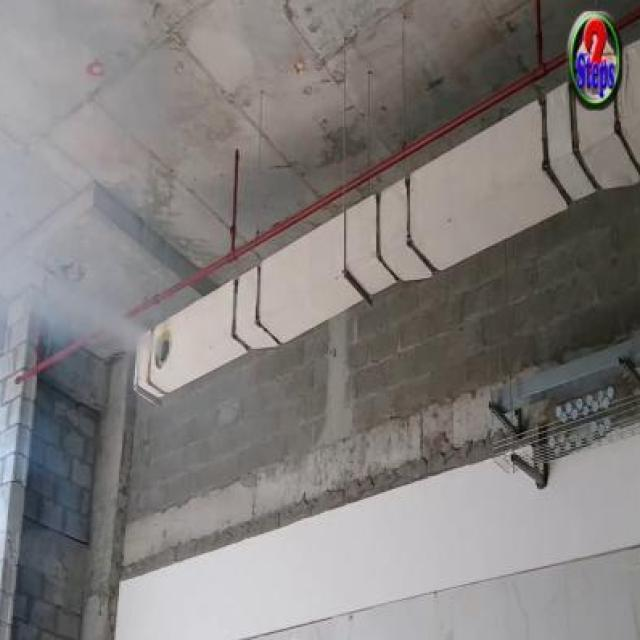fire: (25, 276, 160, 362)
